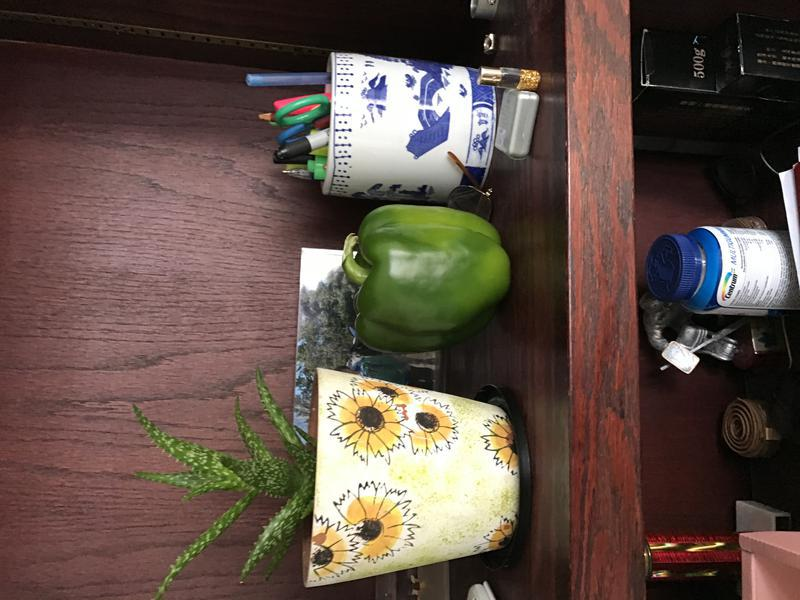green_pepper: (329, 194, 525, 365)
